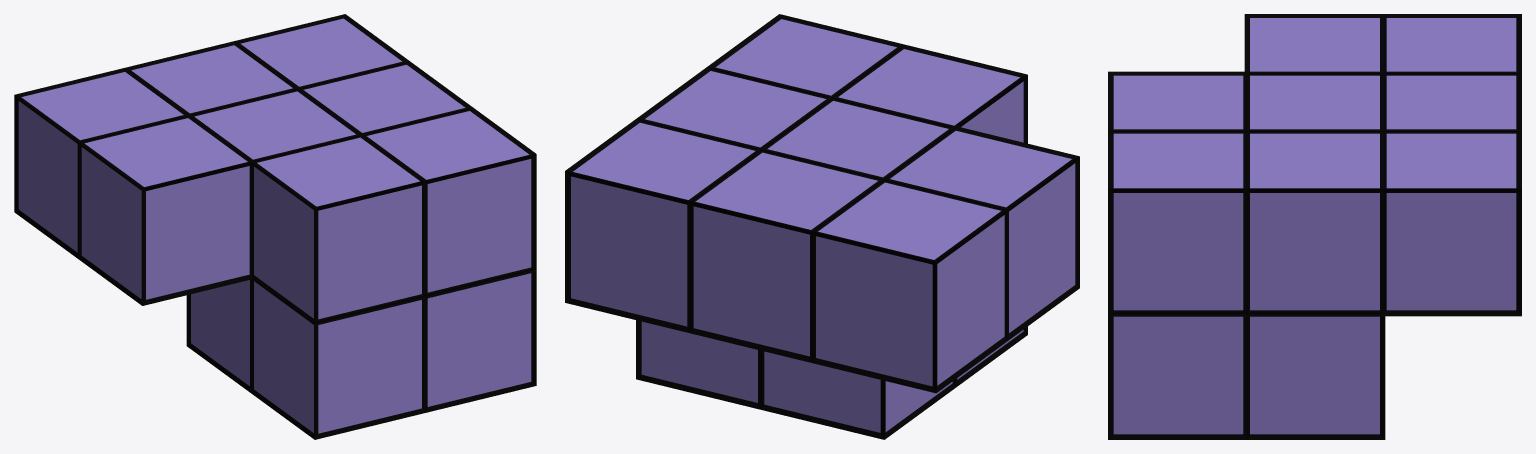
The picture shows the model from 3 angles, left to right: view 1: azimuth 30°, elevation 25°; view 2: azimuth 150°, elevation 25°; view 3: azimuth 270°, elevation 25°; orthographic projection. The views are drawn at different scales.
Parts seen in each view (by area): view 1: c1:Mesh; view 2: c1:Mesh; view 3: c1:Mesh.
Part boxes in pixels (x1,y1,x2,y2): c1:Mesh: (14,14,536,439); c1:Mesh: (565,14,1079,439); c1:Mesh: (1108,14,1521,439).
Size of the model in its own units: 6.06 by 4.06 by 6.06.
